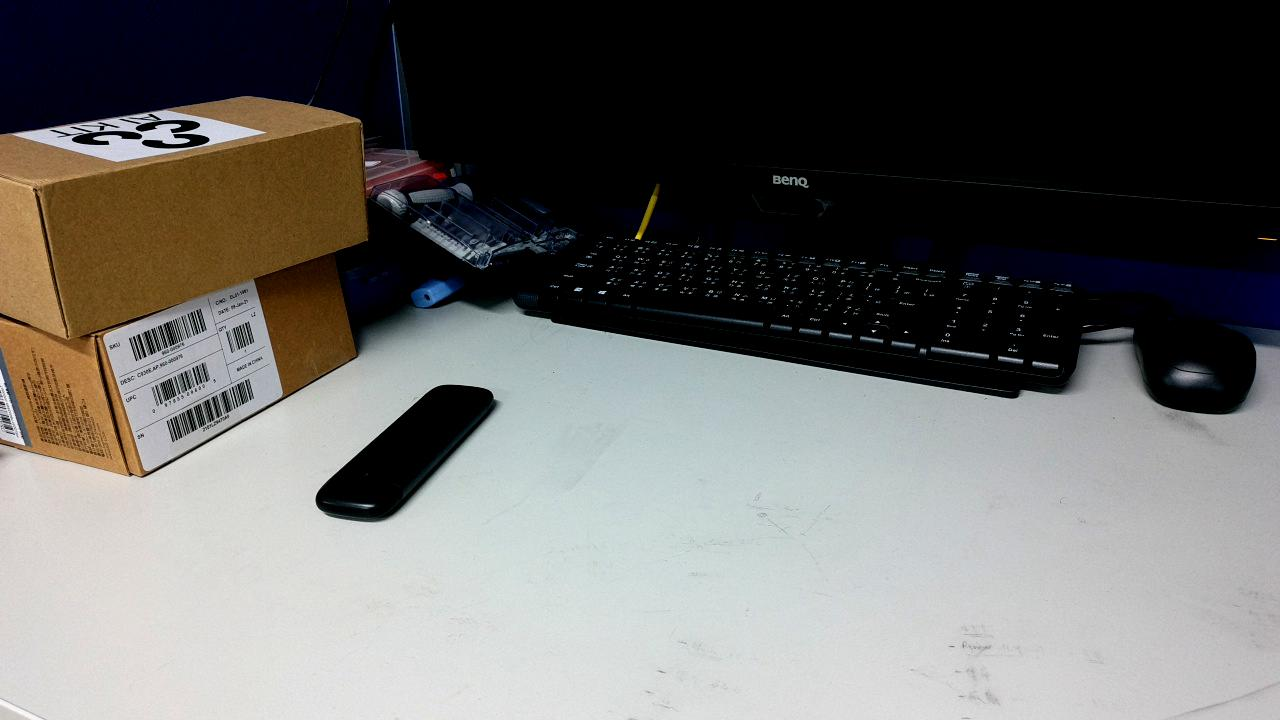blade: (791, 489, 951, 598)
grasp: (664, 415, 834, 521)
